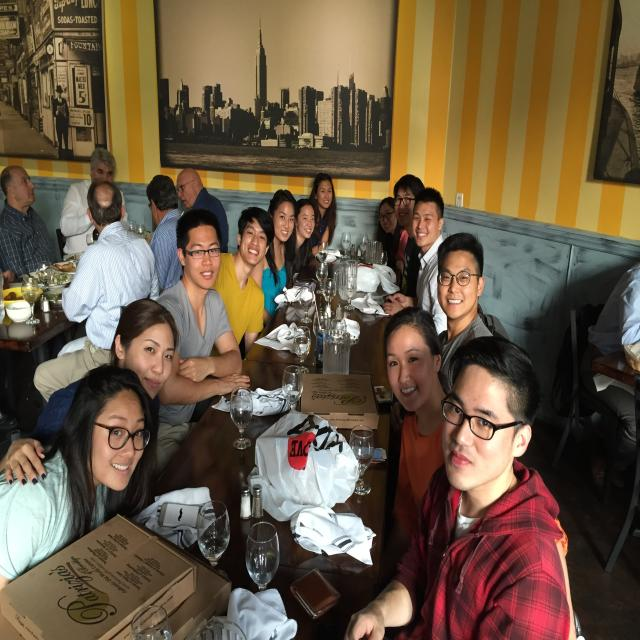body: (340, 335, 578, 640), (383, 305, 568, 611), (0, 296, 182, 522), (1, 362, 162, 590), (32, 176, 160, 404), (150, 207, 252, 489), (580, 253, 640, 545), (209, 204, 276, 358), (435, 230, 495, 398), (382, 188, 448, 336), (58, 146, 128, 256), (248, 187, 298, 327), (0, 164, 58, 282), (145, 173, 184, 301), (176, 167, 229, 255), (393, 174, 426, 298), (283, 198, 316, 290), (377, 194, 409, 280), (307, 172, 338, 258), (52, 82, 72, 164)
